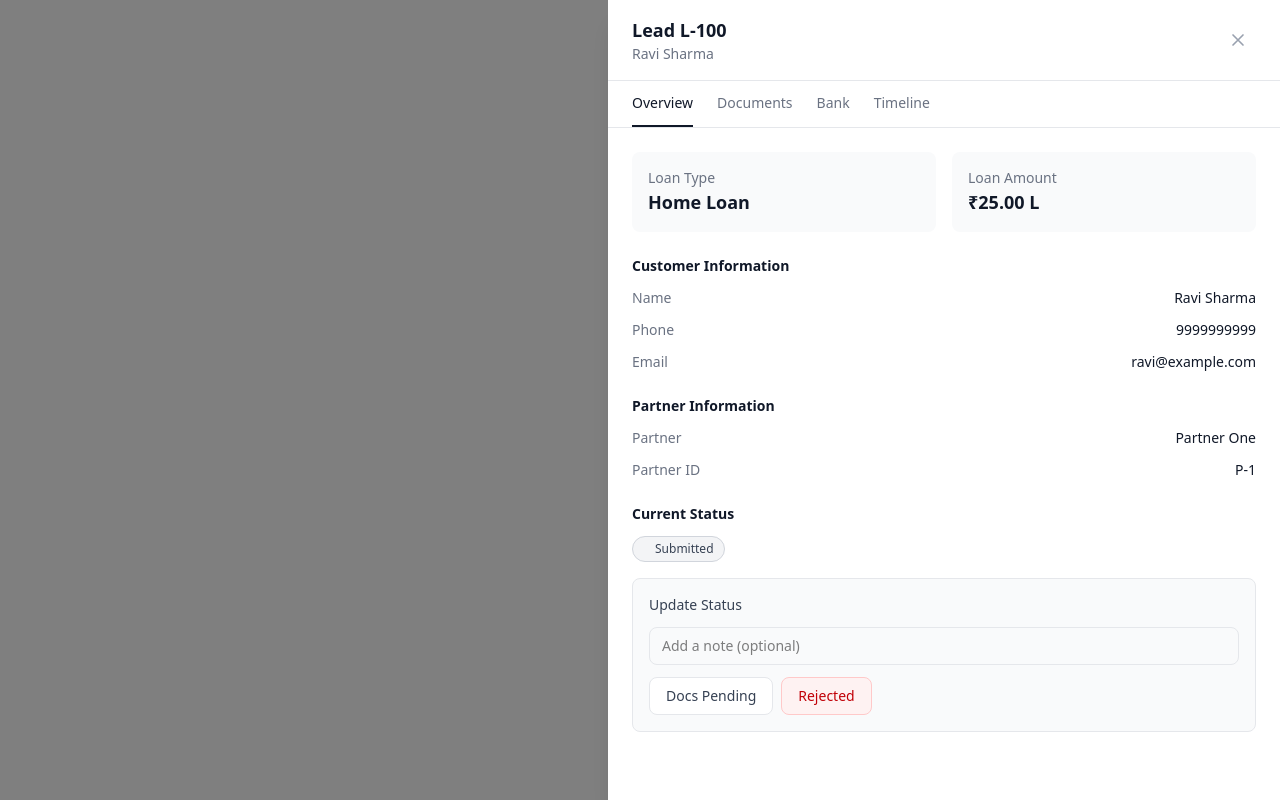
Test: LeadDetailsModal › marks the currently assigned bank as disabled
Click the button "Bank" at (833, 104), box [816,81,850,127]
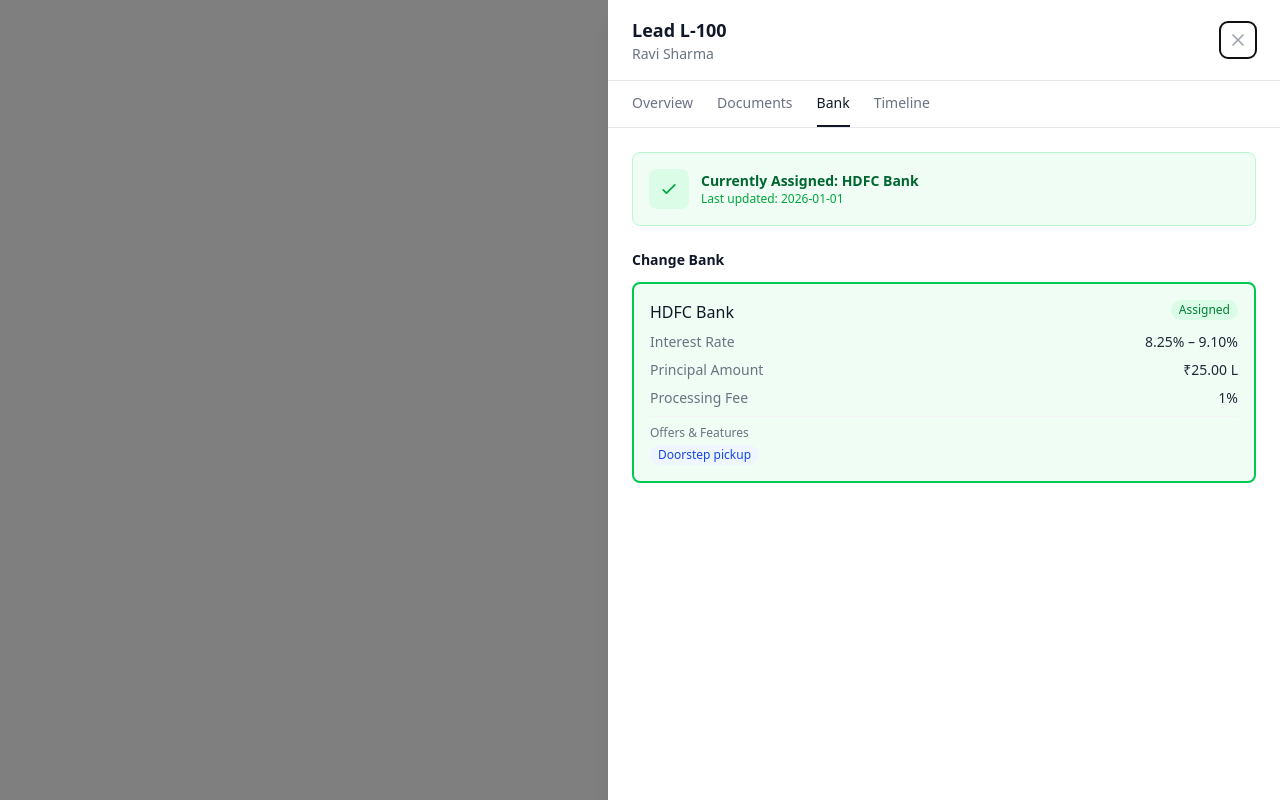
Now the button that starts with "HDFC Bank" is disabled, box [632,282,1256,483]
Now the text "Assigned" is shown, box [1171,300,1238,320]
